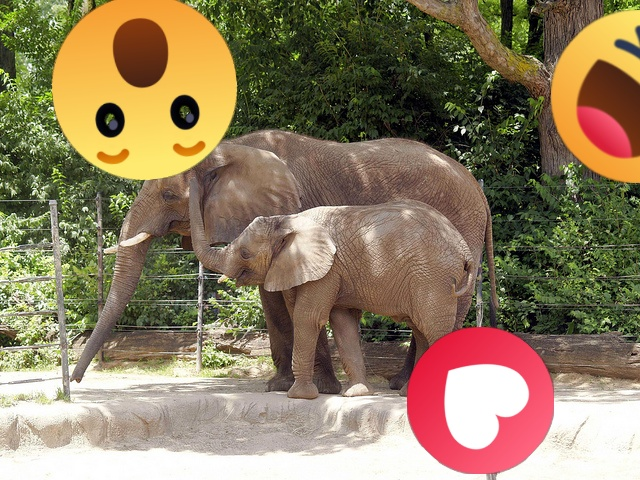haha: (551, 10, 640, 183)
love: (407, 327, 554, 474)
wow: (52, 0, 237, 180)
